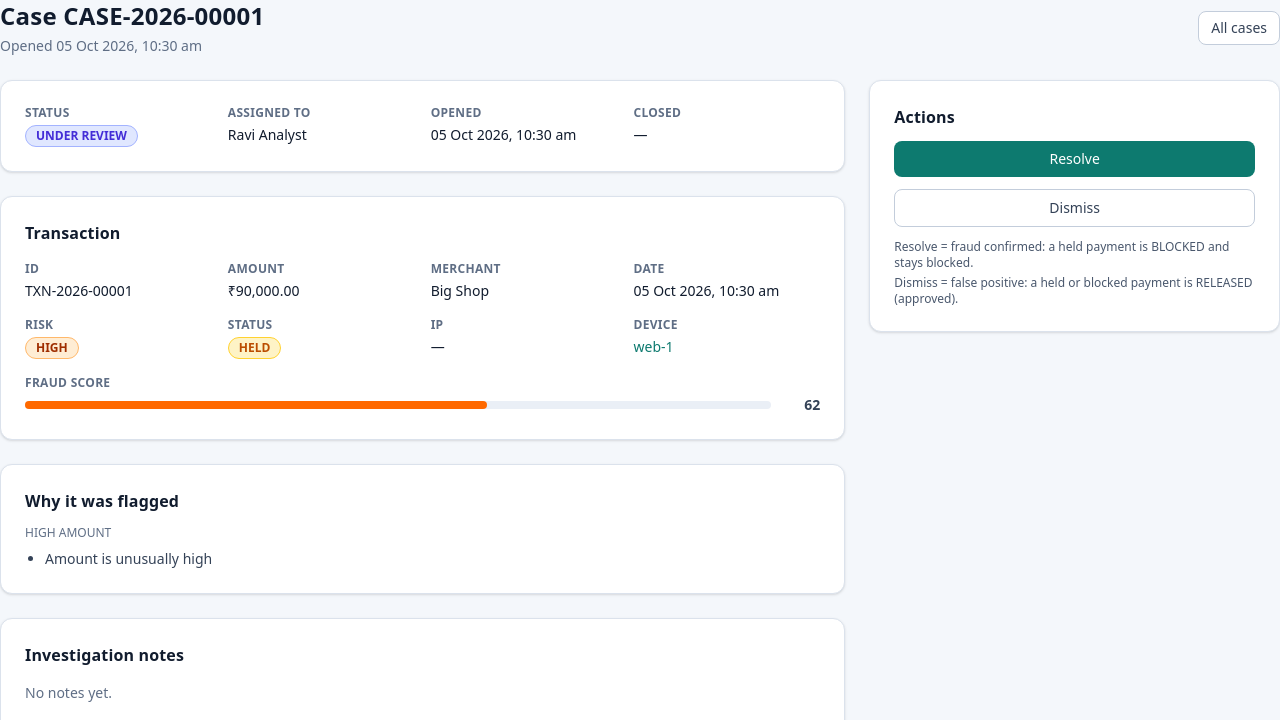
CaseDetail close dialog (N-06) › a failed close shows the error INSIDE the dialog and keeps it open
The image size is (1280, 720).
Click the button "Resolve": (1075, 159) x1=894 y1=141 x2=1255 y2=177
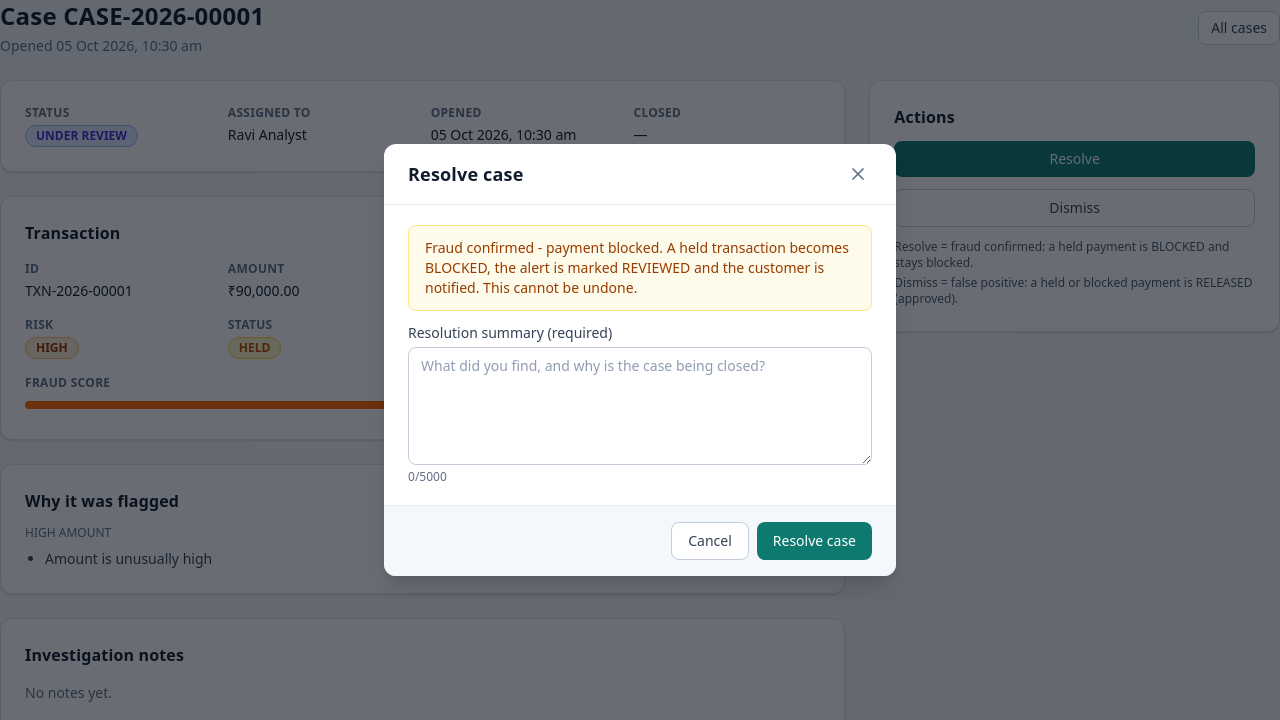
In the text box labelled "Resolution summary (required)": (640, 406) x1=408 y1=347 x2=872 y2=465, type "Customer confirmed fraud"
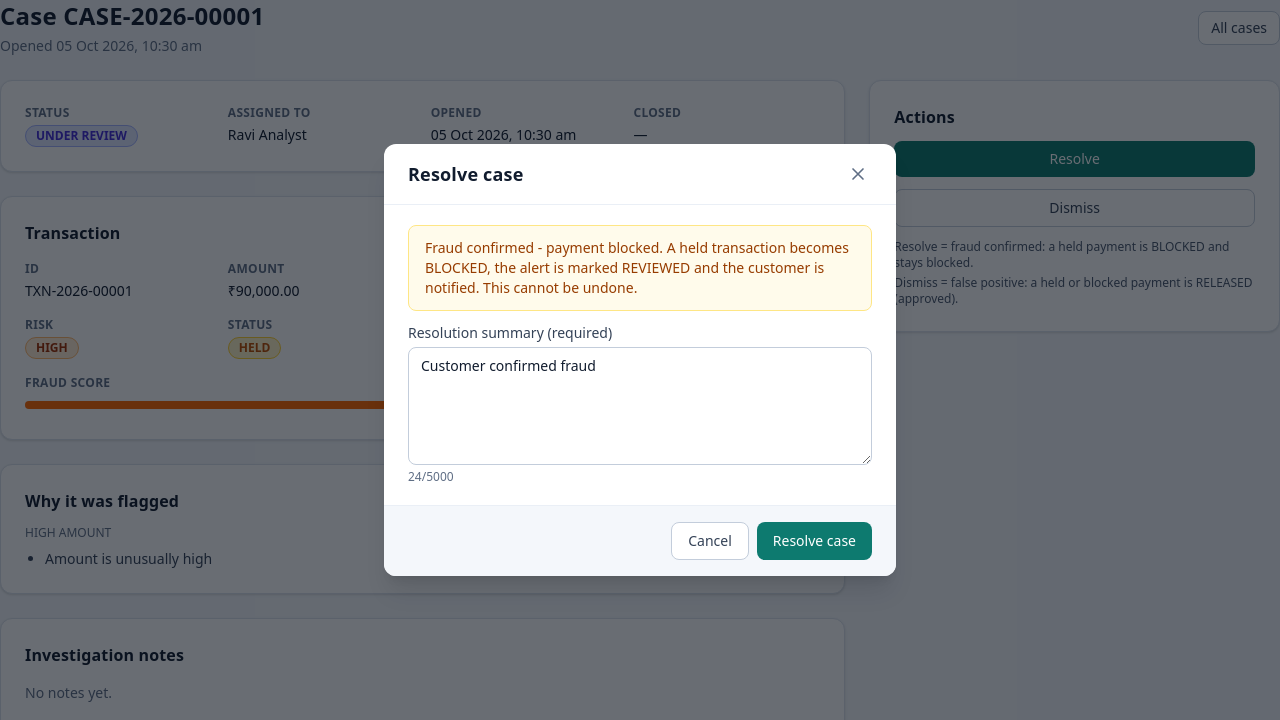
Click the button "Resolve case": (814, 541) x1=757 y1=522 x2=872 y2=560
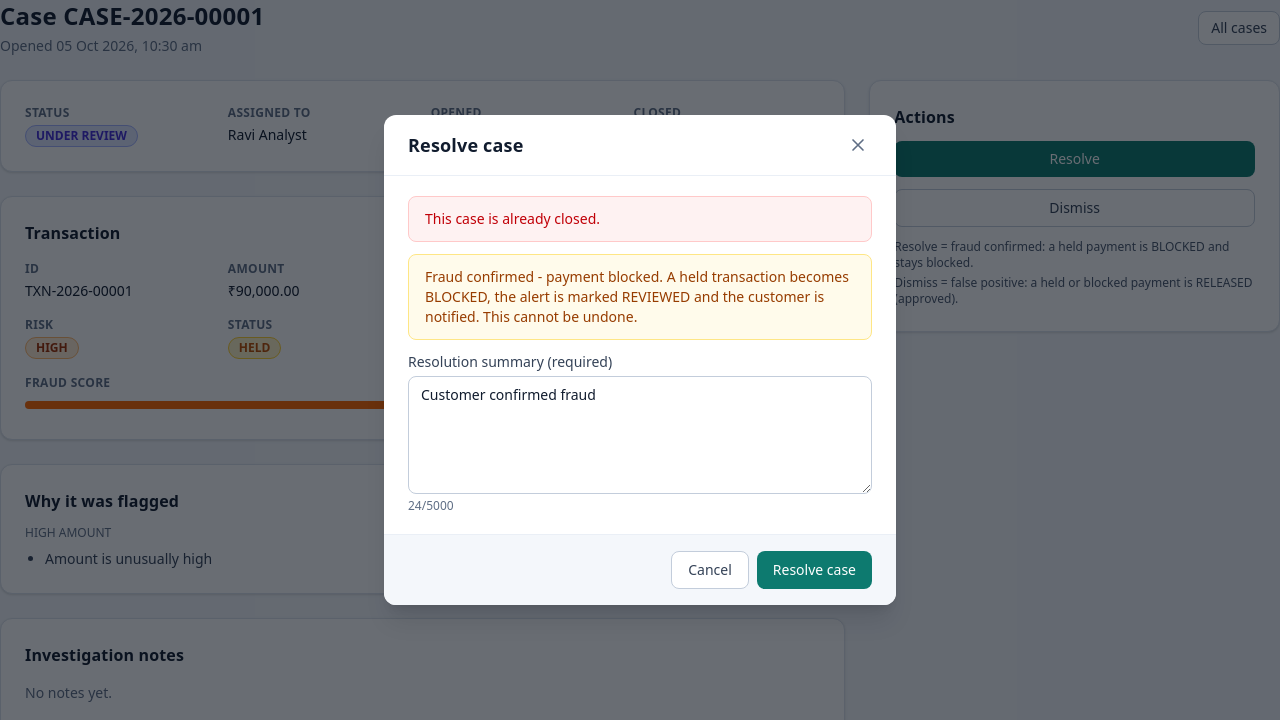
Check: the dialog is shown, box x1=384 y1=115 x2=896 y2=605
Check: the text "This case is already closed." is shown, box x1=408 y1=196 x2=872 y2=242
